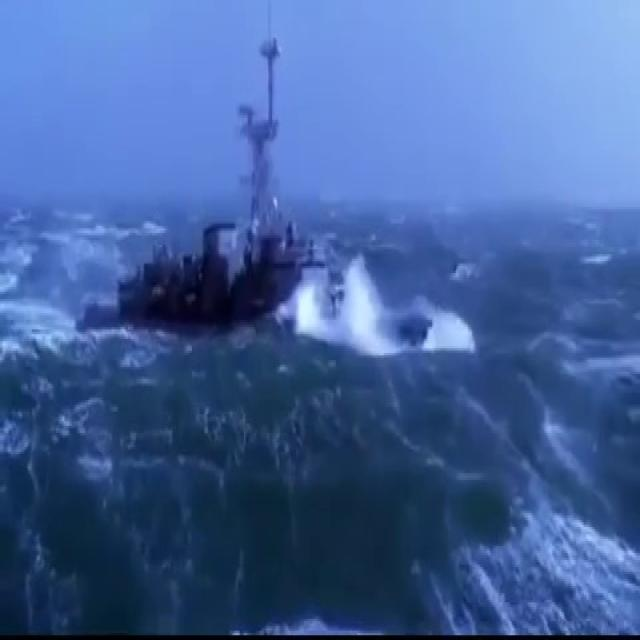houseboat: (81, 82, 424, 364)
